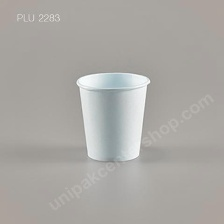paper_cup: (70, 68, 154, 165)
